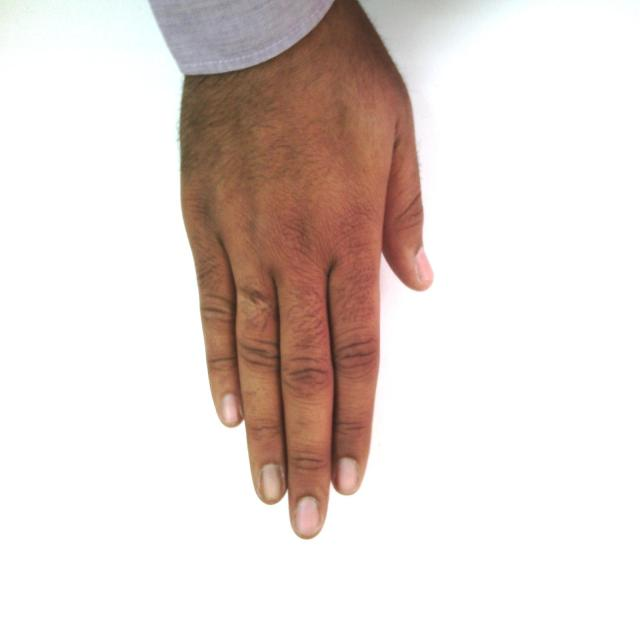hand: (170, 87, 439, 535)
